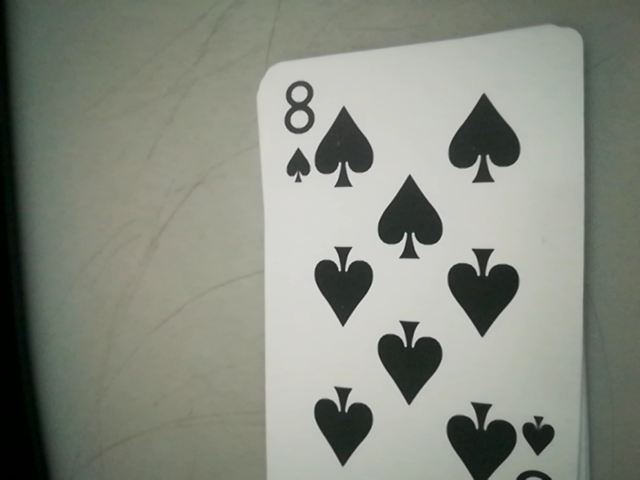ht 8: (267, 69, 328, 193)
